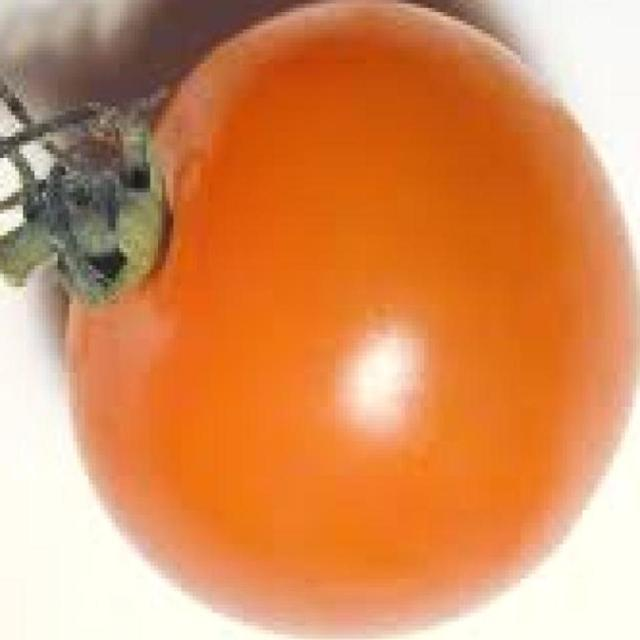Healthy Fruit: (0, 0, 420, 425)
